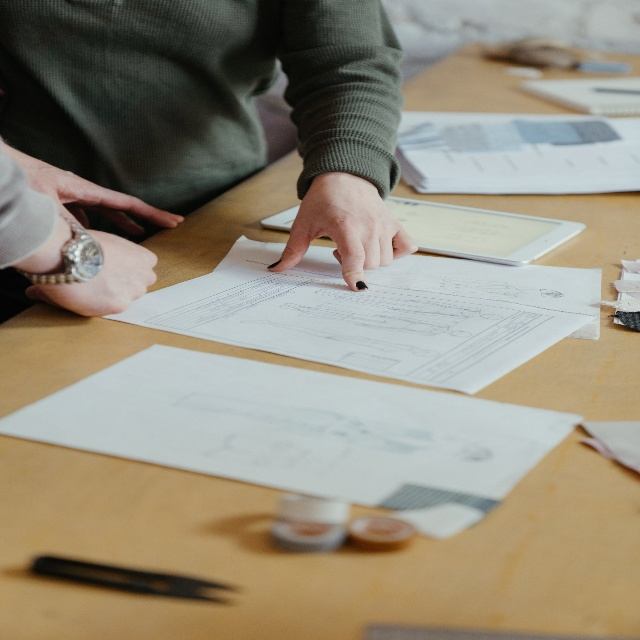Sin_guantes: (266, 172, 419, 292), (25, 227, 158, 317), (27, 155, 186, 229)
